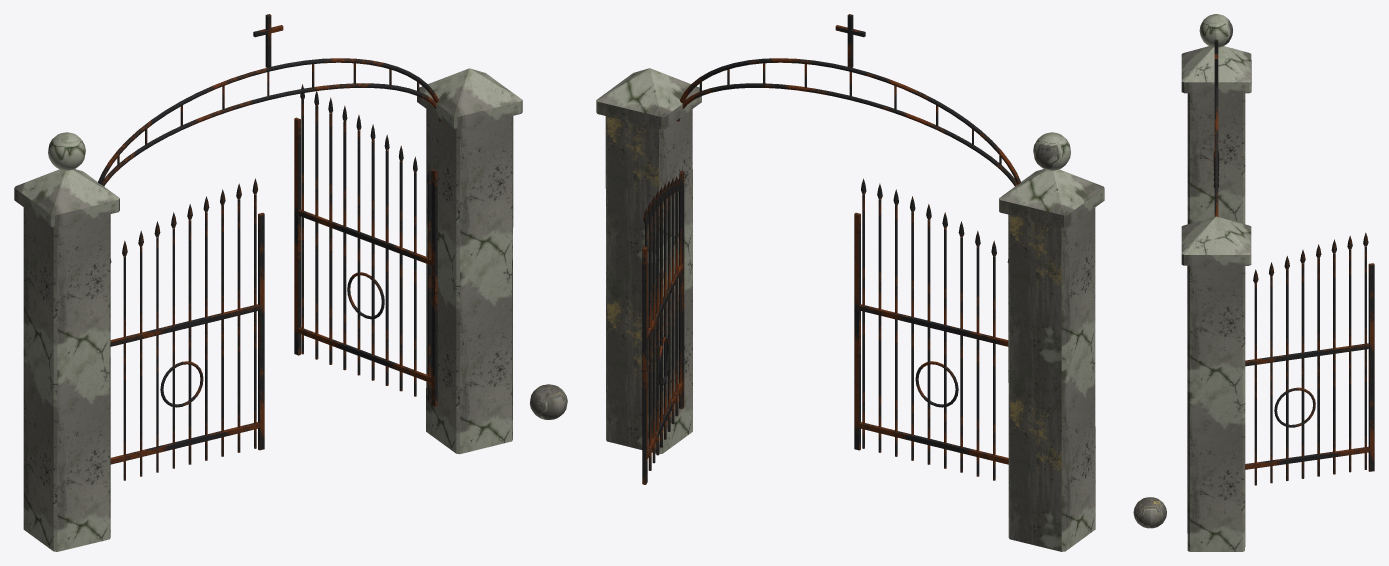
File: Gate.gltf
3 renders of one model, left to right at view 1: azimuth 30°, elevation 25°; view 2: azimuth 150°, elevation 25°; view 3: azimuth 270°, elevation 25°, orthographic. The views are drawn at different scales.
Parts seen in each view (by area): view 1: Gate; view 2: Gate; view 3: Gate.
Boxes of the visible parts, <box> form: Gate: <box>14,14,567,551</box>; Gate: <box>596,14,1104,551</box>; Gate: <box>1133,14,1374,551</box>.
Size of the model in its own units: 4.18 by 3.79 by 2.01.
2 materials, 2 textured.
